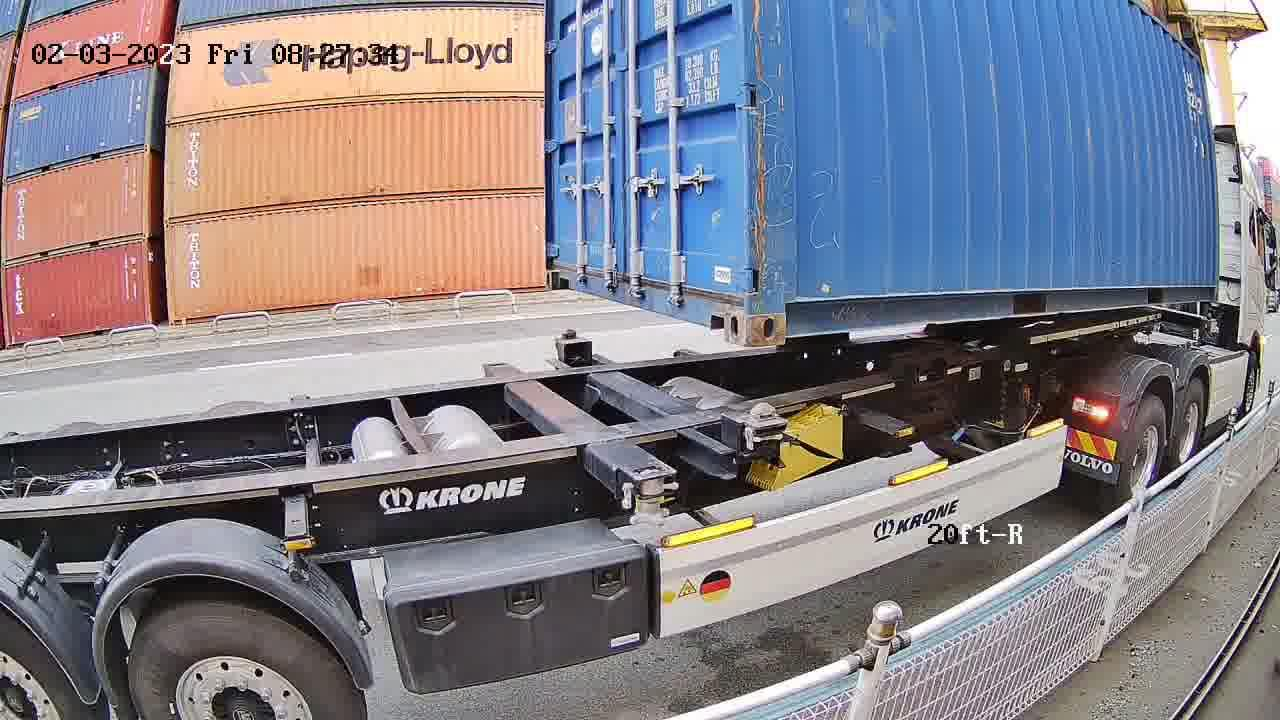Chassis: (556, 336, 788, 452)
Cone: (743, 400, 787, 467), (557, 326, 579, 339)
Hole_L: (748, 269, 821, 347), (544, 245, 578, 293)
Hole_R: (698, 269, 748, 349)
Tire: (1113, 397, 1166, 520), (1170, 380, 1205, 485)
